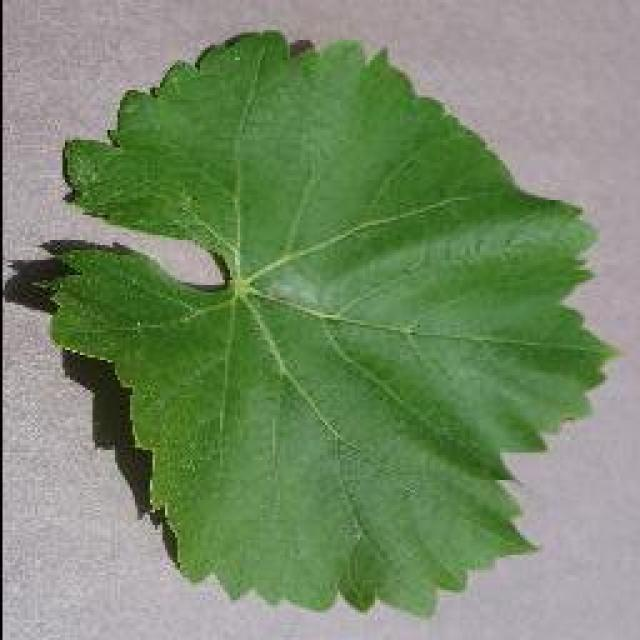Grape___healthy: (52, 32, 610, 612)
